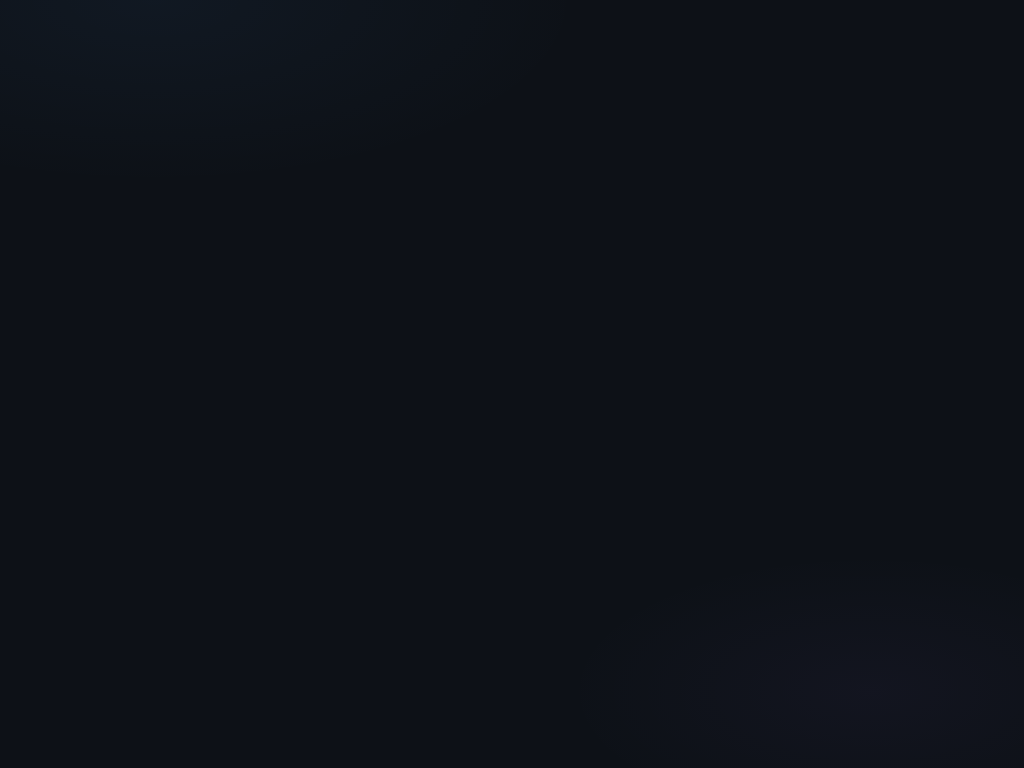
Test case: CommandPalette › closes on backdrop click
Press k
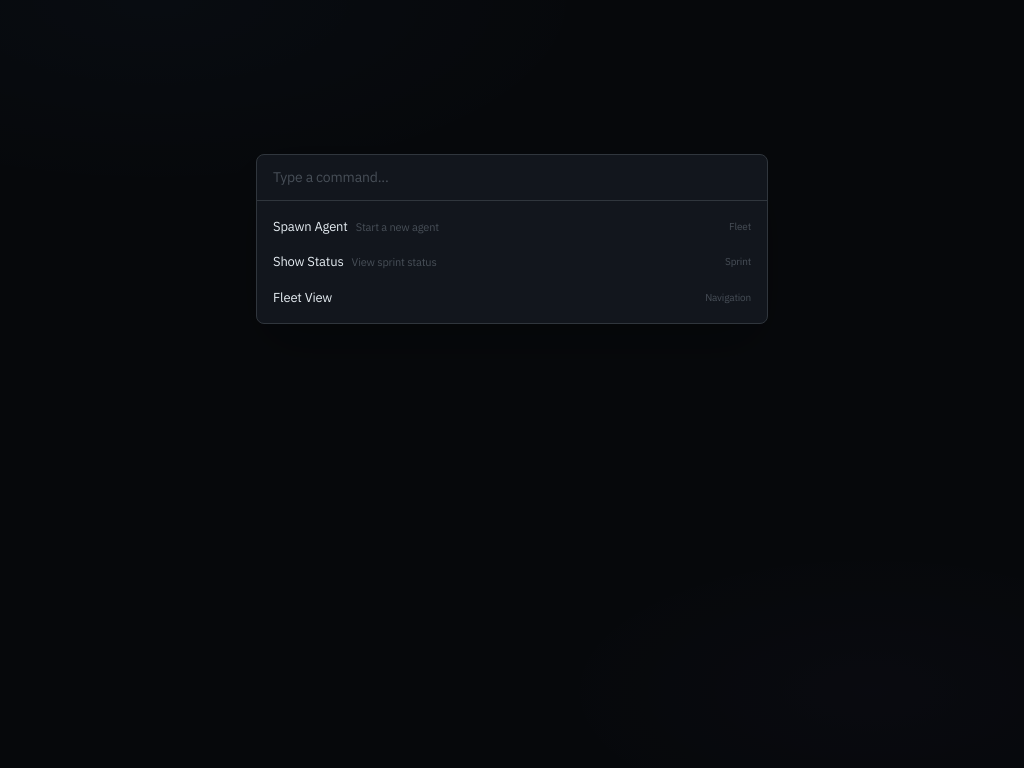
Click the element with test id "palette-backdrop" at (512, 384), box [0,0,1023,767]
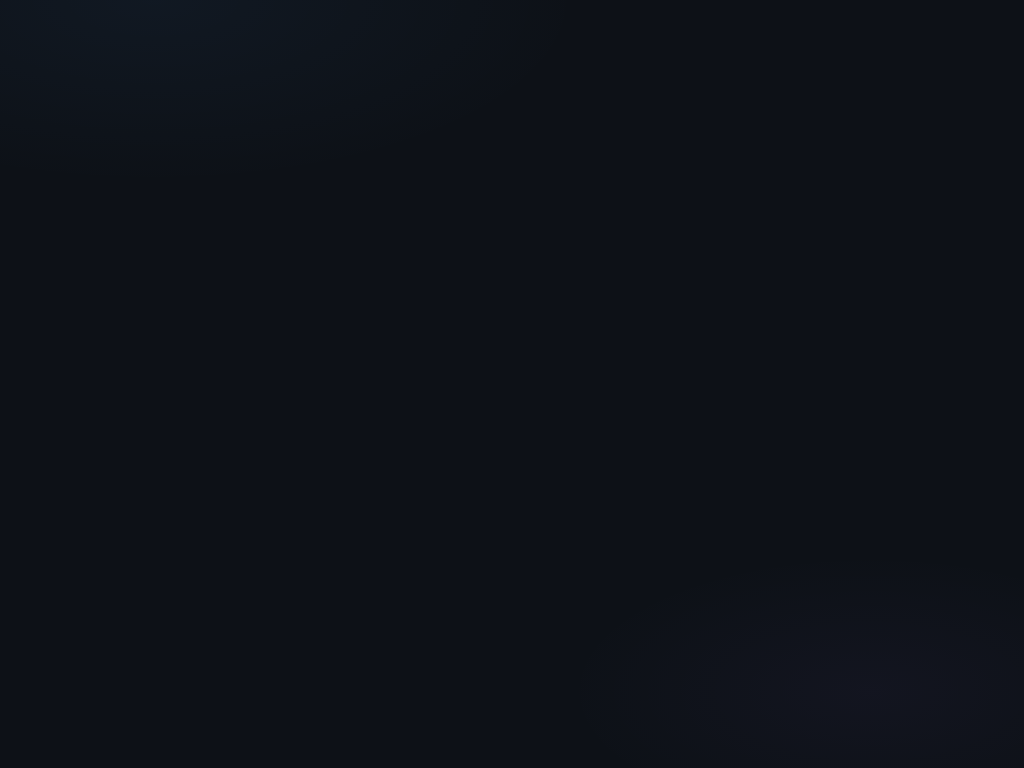
expect the element with test id "command-palette" is gone: met
